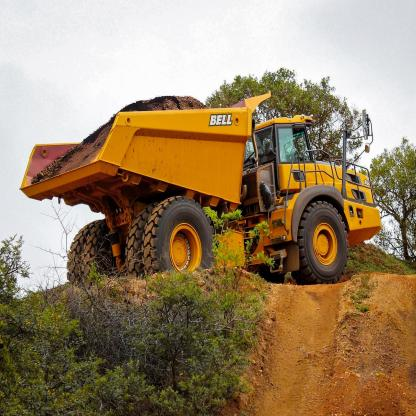dump_truck: (21, 81, 381, 298)
